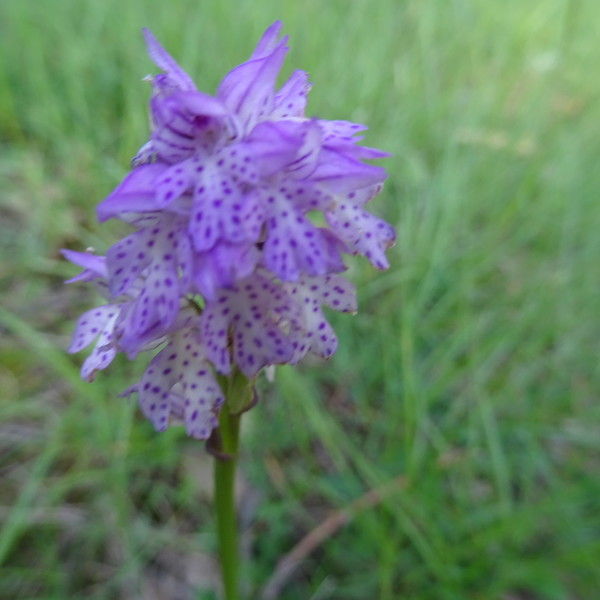obstacle: (85, 33, 367, 448)
